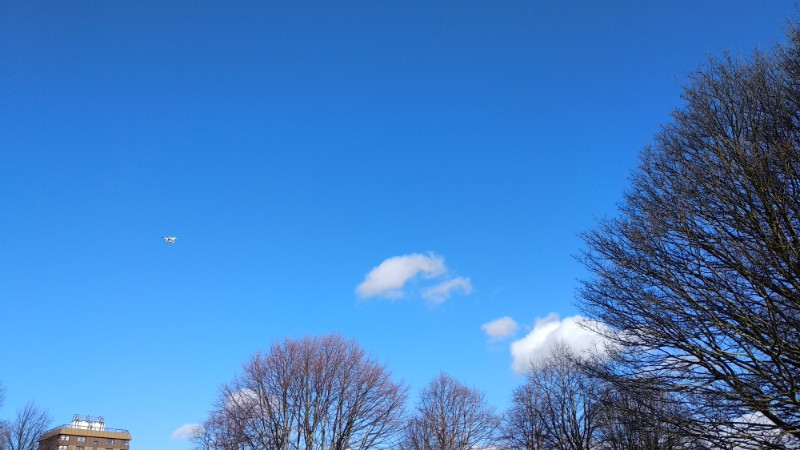drone: (161, 235, 178, 244)
